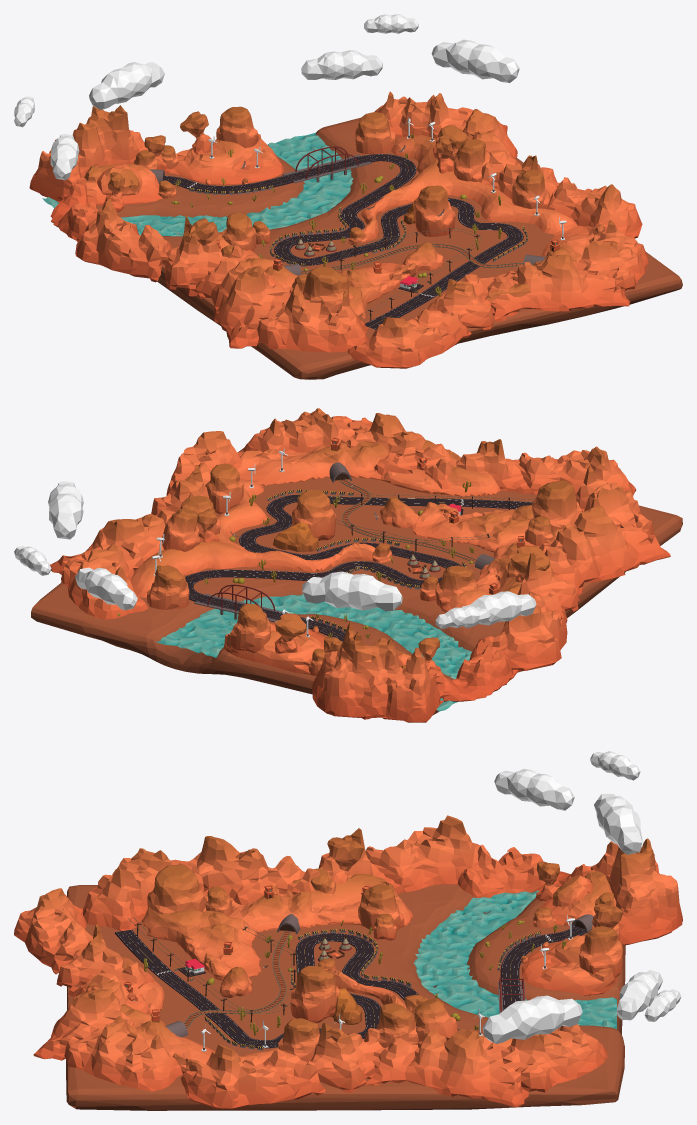
The model's file is Track2.fbx.
The picture shows the model from 3 angles, top to bottom: view 1: azimuth 30°, elevation 25°; view 2: azimuth 150°, elevation 25°; view 3: azimuth 270°, elevation 25°; orthographic projection. The views are drawn at different scales.
Visible parts, largest first — view 1: Plane.006, Plane.054, Plane.058, Plane.055, Plane.005, Plane.021, Plane.057, Plane.089, Plane.017, Cliff4.002, Mball.003, Mball.006 (+17 smaller); view 2: Plane.006, Plane.054, Plane.021, Plane.058, Plane.057, Plane.055, Plane.089, Plane.005, Cliff4.002, Mball.006, Plane.017, Cliff2.018 (+20 smaller); view 3: Plane.006, Plane.055, Plane.058, Plane.054, Cliff4.002, Plane.057, Plane.089, Plane.005, Plane.017, Plane.021, Mball.003, Cliff2.018 (+20 smaller).
Part boxes in pixels (x1,y1,x2,y2): Plane.006: (96,117,682,379); Plane.054: (75,198,368,352); Plane.058: (347,220,648,368); Plane.055: (374,91,642,238); Plane.005: (163,154,523,330); Plane.021: (361,135,604,310); Plane.057: (29,105,169,241); Plane.089: (42,132,353,236); Plane.017: (82,134,283,205); Cliff4.002: (214,232,443,318); Mball.003: (431,39,519,83); Mball.006: (89,62,164,109); Plane.006: (31,421,682,715); Plane.054: (494,465,670,670); Plane.021: (131,440,500,597); Plane.058: (243,408,635,496); Plane.057: (312,620,522,722); Plane.055: (50,431,243,619); Plane.089: (155,594,471,711); Plane.005: (185,495,532,642); Cliff4.002: (380,497,562,612); Mball.006: (302,571,402,611); Plane.017: (224,623,405,674); Cliff2.018: (531,480,581,530); Plane.006: (66,884,625,1110); Plane.055: (181,1022,607,1108); Plane.058: (14,888,182,1091); Plane.054: (82,815,485,930); Cliff4.002: (142,874,412,997); Plane.057: (457,838,682,945); Plane.089: (413,890,616,1029); Plane.005: (115,926,586,1048); Plane.017: (522,870,617,995); Plane.021: (85,957,512,1073); Mball.003: (482,995,582,1043); Cliff2.018: (147,864,206,913).
Bounding box in the file's own units: 33658 × 9029 × 37601.
